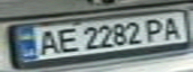2: (78, 24, 100, 52), (96, 21, 115, 50), (124, 19, 145, 45)
8: (112, 20, 130, 47)
A: (30, 28, 63, 56), (157, 14, 187, 40)
E: (51, 26, 81, 55)
P: (142, 16, 169, 43)
